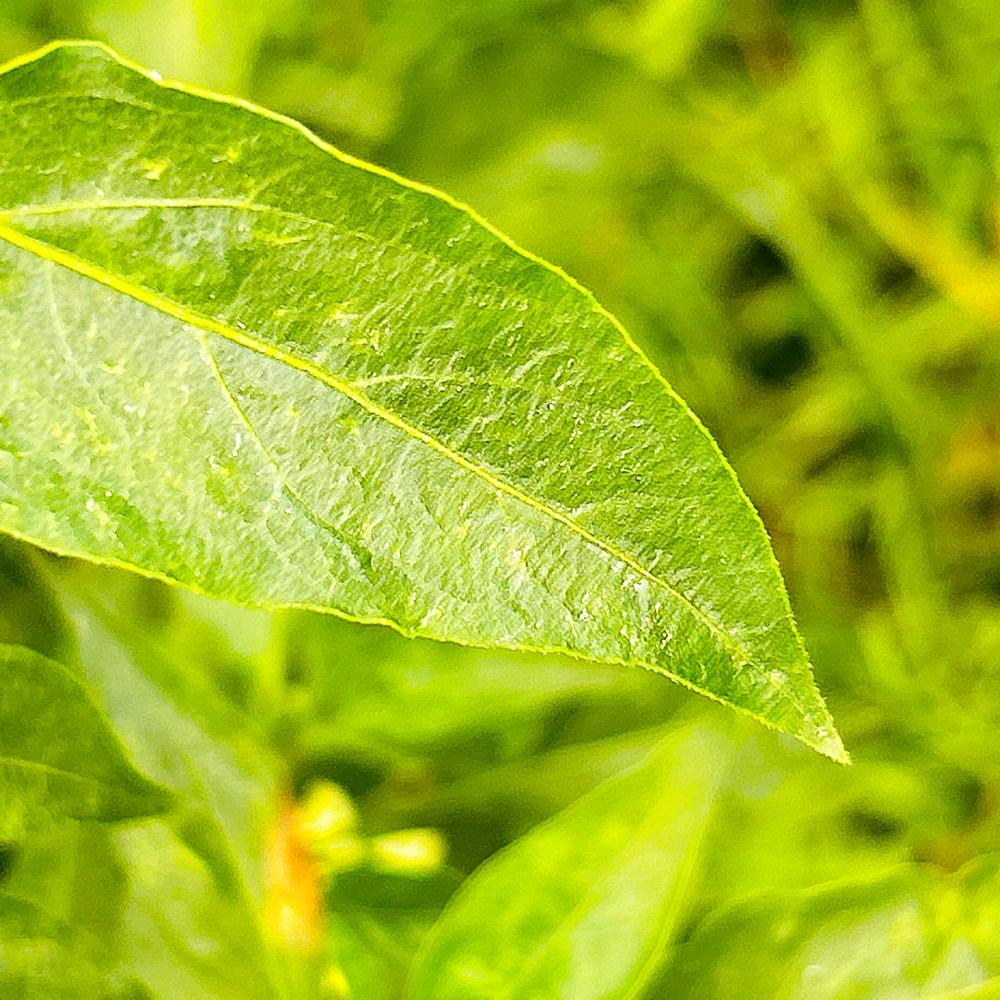Daun Cabai Sehat: (0, 36, 853, 767)
